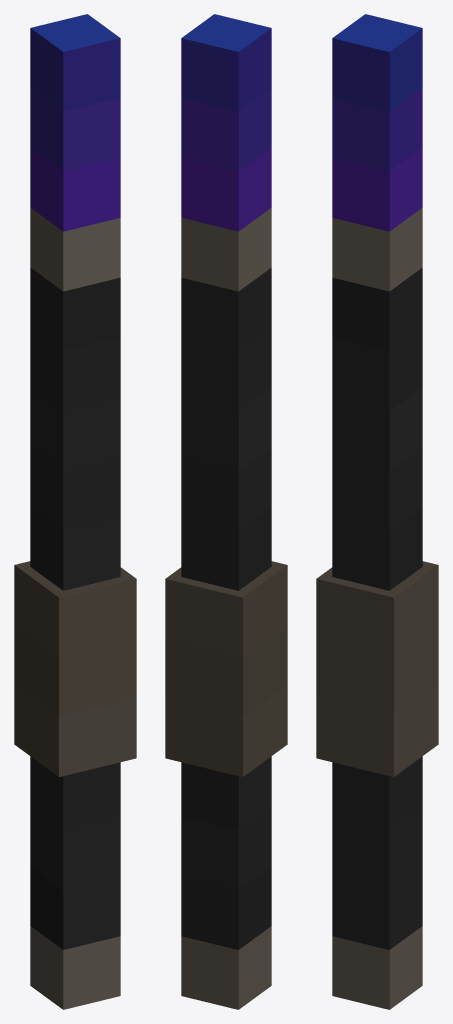
The model's file is manaweaving_basic.obj.
The picture shows the model from 3 angles, left to right: view 1: azimuth 30°, elevation 25°; view 2: azimuth 150°, elevation 25°; view 3: azimuth 330°, elevation 25°; orthographic projection.
Visible parts, largest first — view 1: Cube.003_Cube.005; view 2: Cube.003_Cube.005; view 3: Cube.003_Cube.005.
Part boxes in pixels (bbox=[...]): Cube.003_Cube.005: bbox=[14, 14, 136, 1009]; Cube.003_Cube.005: bbox=[165, 14, 287, 1009]; Cube.003_Cube.005: bbox=[316, 14, 438, 1009].
Bounding box in the file's own units: 0.0846 × 1 × 0.0846.
